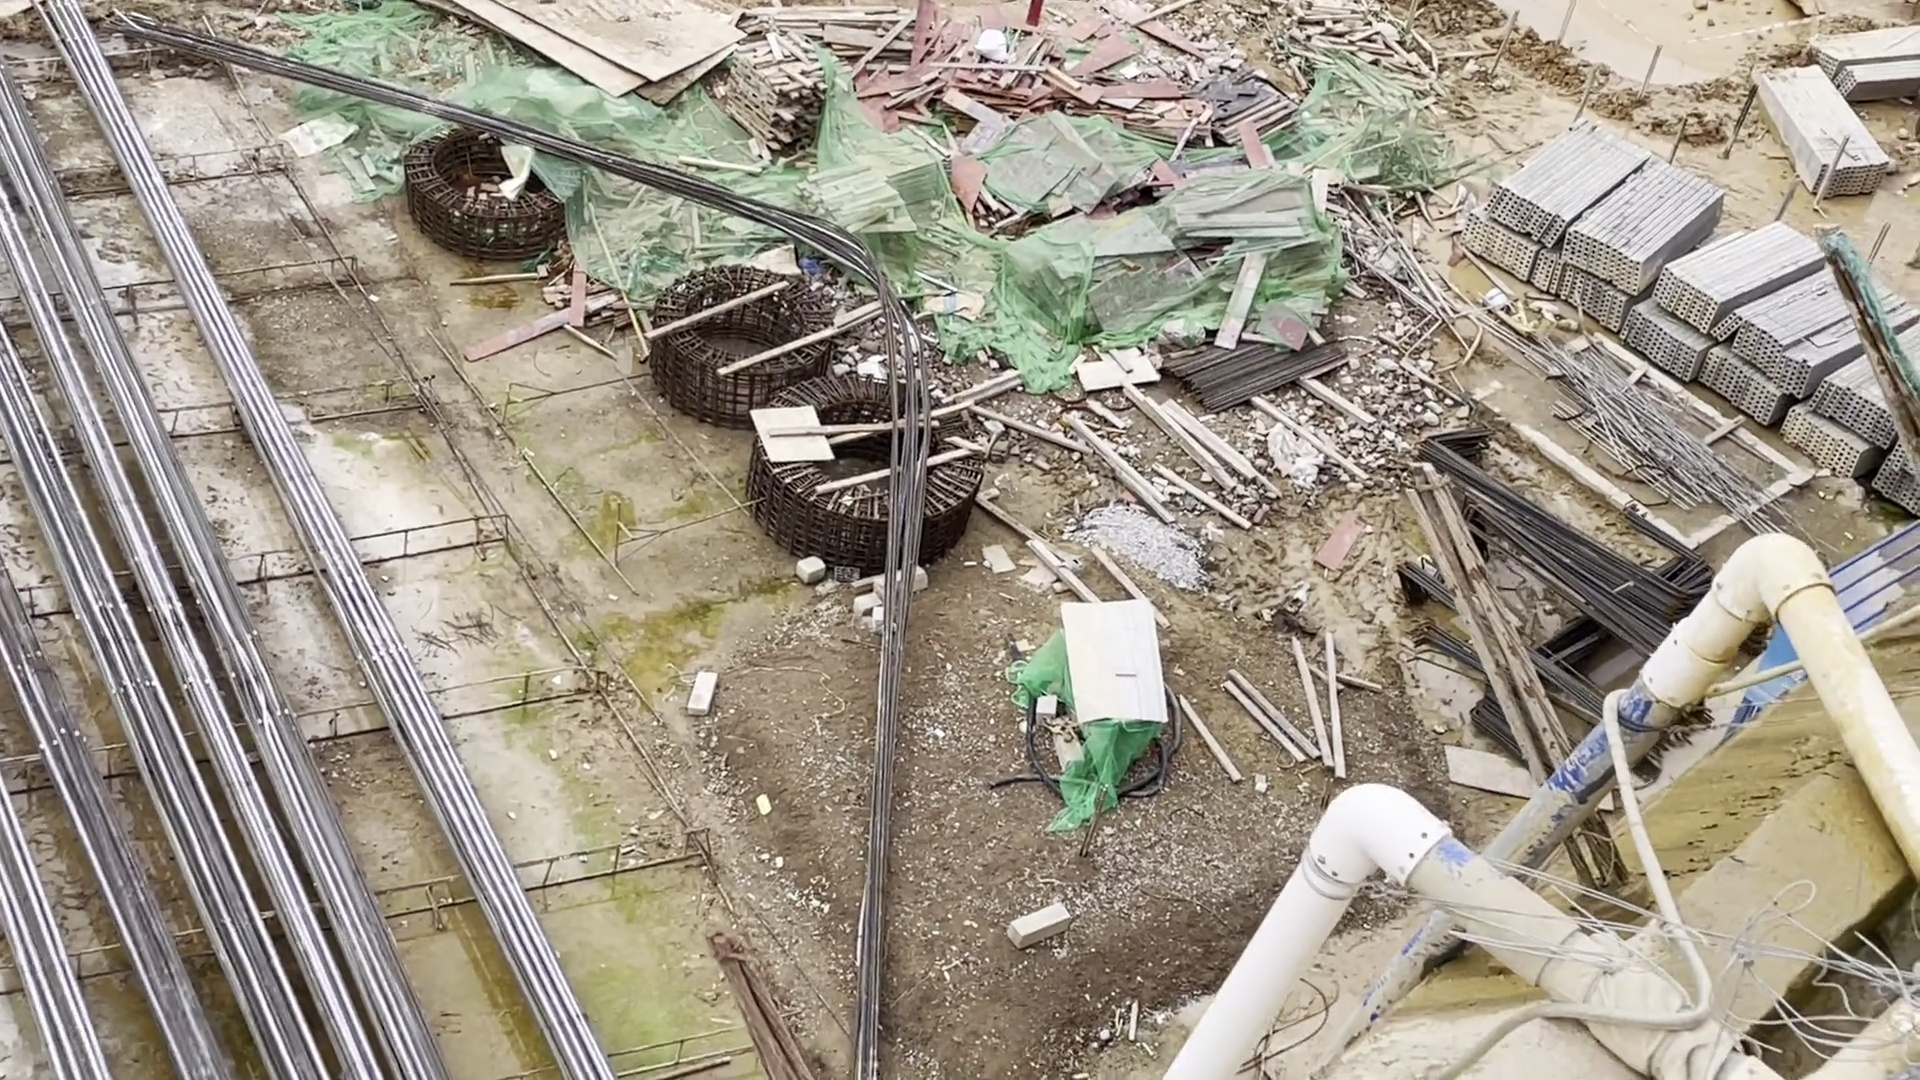board: (862, 22, 1178, 113)
rebar: (1, 32, 359, 1080)
scaffold: (1464, 117, 1920, 505), (1750, 22, 1920, 208)
